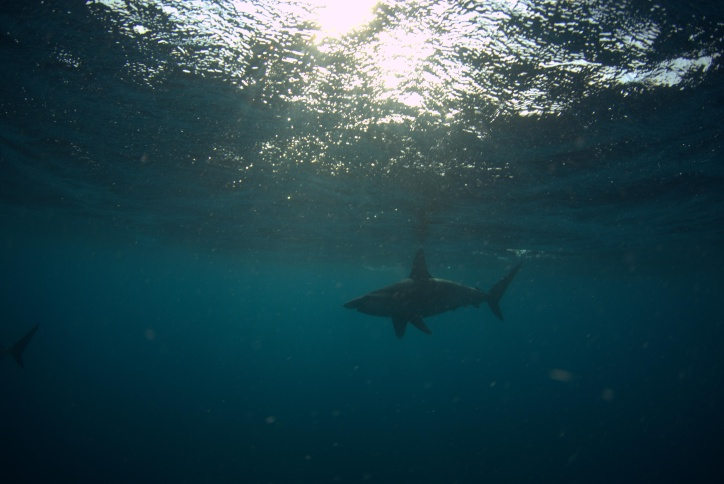Hammer: (324, 231, 557, 368)
